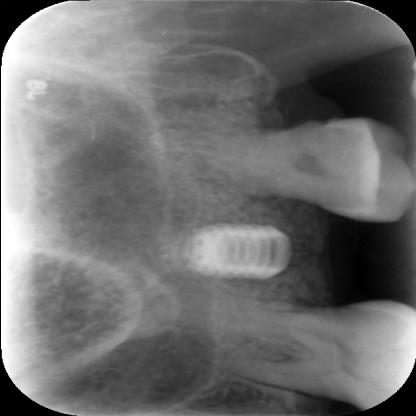Bicon: (189, 217, 291, 284)
